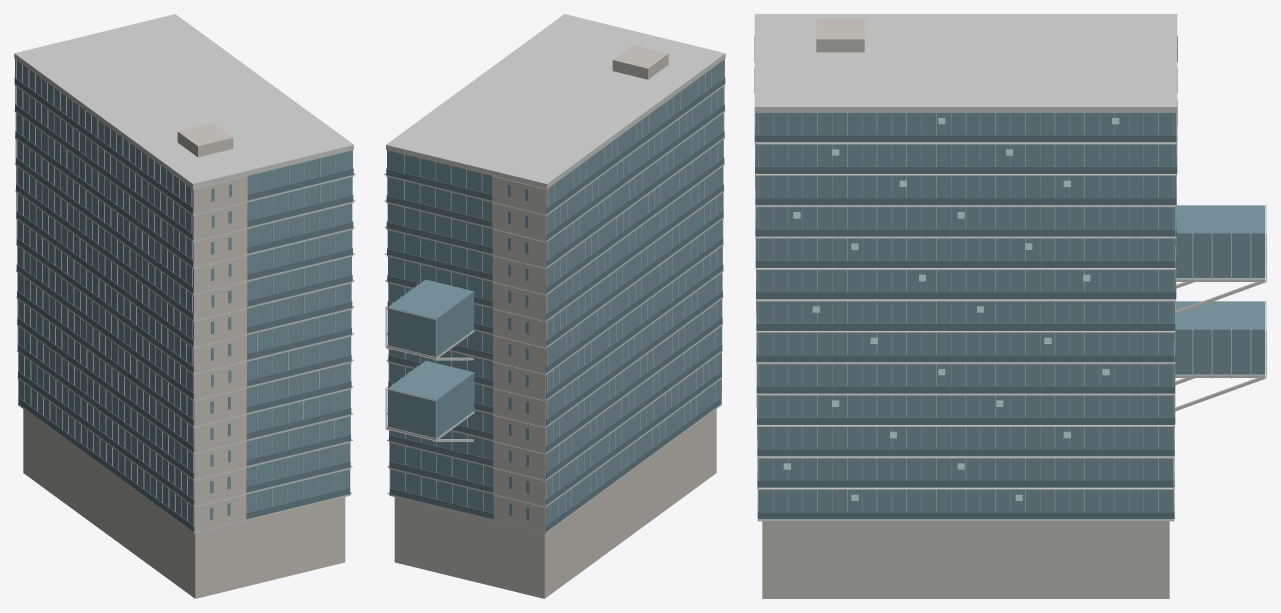
3 views of the same model, side by side, from view 1: azimuth 30°, elevation 25°; view 2: azimuth 150°, elevation 25°; view 3: azimuth 270°, elevation 25° (orthographic). The views are drawn at different scales.
Parts seen in each view (by area): view 1: b04s__glass, b04s__frame, b04s__stone-wall, b04s__spandrel-wall; view 2: b04s__glass, b04s__frame, b04s__stone-wall, b04s__spandrel-wall; view 3: b04s__glass, b04s__frame, b04s__spandrel-wall, b04s__stone-wall, b04s__glass-light.
Boxes of the visible parts, x1,y1,x2,y2 form: b04s__glass: [15, 59, 352, 524]; b04s__frame: [14, 14, 355, 533]; b04s__stone-wall: [15, 59, 345, 598]; b04s__spandrel-wall: [14, 77, 353, 531]; b04s__glass: [387, 59, 724, 524]; b04s__frame: [384, 14, 725, 533]; b04s__stone-wall: [394, 45, 724, 598]; b04s__spandrel-wall: [386, 77, 725, 531]; b04s__glass: [754, 36, 1265, 511]; b04s__frame: [754, 14, 1266, 521]; b04s__spandrel-wall: [754, 125, 1177, 519]; b04s__stone-wall: [762, 18, 1169, 598]; b04s__glass-light: [783, 118, 1119, 500].
Bounding box in the file's own units: 23.24 × 58.1 × 53.1.
